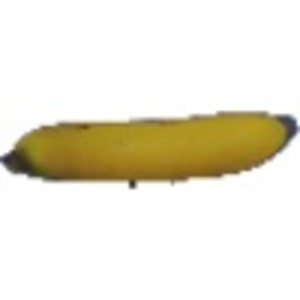banana: (2, 106, 299, 180)
